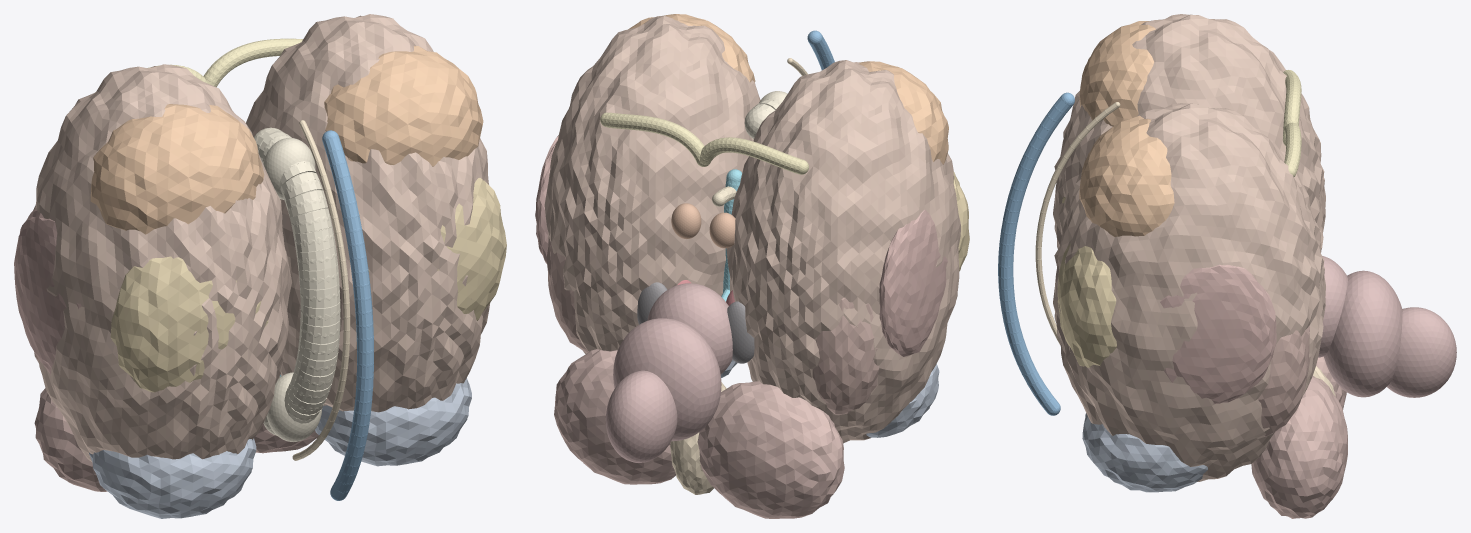
Rendered from brain_teaching_model.glb.
The picture shows the model from 3 angles, left to right: view 1: azimuth 30°, elevation 25°; view 2: azimuth 150°, elevation 25°; view 3: azimuth 270°, elevation 25°; orthographic projection. The views are drawn at different scales.
Visible parts, largest first — view 1: Hemisphere_Left, Hemisphere_Right, FrontalLobe_Left, FrontalLobe_Right, ParietalLobe_Left, CorpusCallosum, OccipitalLobe_Left, SuperiorSagittalSinus, OccipitalLobe_Right, TemporalisMuscle_Left, ParietalLobe_Right, Cerebellum_Left (+5 smaller); view 2: Hemisphere_Left, Hemisphere_Right, Cerebellum_Left, Pons, Cerebellum_Right, TemporalisMuscle_Left, MedullaOblongata, TemporalLobe_Left, Midbrain, OpticNervesAndChiasm, FrontalLobe_Left, SubstantiaNigra (+10 smaller); view 3: Hemisphere_Right, Hemisphere_Left, TemporalisMuscle_Right, Cerebellum_Right, FrontalLobe_Right, Pons, ParietalLobe_Right, SuperiorSagittalSinus, FrontalLobe_Left, OccipitalLobe_Right, MedullaOblongata, TemporalLobe_Right (+3 smaller).
Boxes of the visible parts, x1,y1,x2,y2 form: Hemisphere_Left: (33,64,291,461); Hemisphere_Right: (246,14,489,412); FrontalLobe_Left: (90,104,264,234); FrontalLobe_Right: (324,45,483,166); ParietalLobe_Left: (110,256,268,392); CorpusCallosum: (254,127,340,435); OccipitalLobe_Left: (89,438,256,518); SuperiorSagittalSinus: (322,130,373,500); OccipitalLobe_Right: (315,378,471,466); TemporalisMuscle_Left: (14,208,81,374); ParietalLobe_Right: (368,178,506,320); Cerebellum_Left: (34,388,107,491); Hemisphere_Left: (726,60,960,443); Hemisphere_Right: (544,15,760,354); Cerebellum_Left: (697,381,844,518); Pons: (613,318,721,441); Cerebellum_Right: (554,349,675,484); TemporalisMuscle_Left: (879,209,950,356); MedullaOblongata: (605,370,677,462); TemporalLobe_Left: (812,297,879,414); Midbrain: (647,283,732,374); OpticNervesAndChiasm: (600,112,808,174); FrontalLobe_Left: (859,61,948,164); SubstantiaNigra: (637,282,754,363); Hemisphere_Right: (1053,103,1325,481); Hemisphere_Left: (1053,14,1325,252); TemporalisMuscle_Right: (1160,264,1276,403); Cerebellum_Right: (1251,375,1347,518); FrontalLobe_Right: (1079,115,1174,236); Pons: (1324,270,1402,397); ParietalLobe_Right: (1057,243,1116,367); SuperiorSagittalSinus: (998,92,1074,415); FrontalLobe_Left: (1079,21,1155,126); OccipitalLobe_Right: (1082,413,1207,492); MedullaOblongata: (1387,307,1456,397); TemporalLobe_Right: (1258,326,1310,436).
Bounding box in the file's own units: 2.55 × 2.69 × 2.7.
